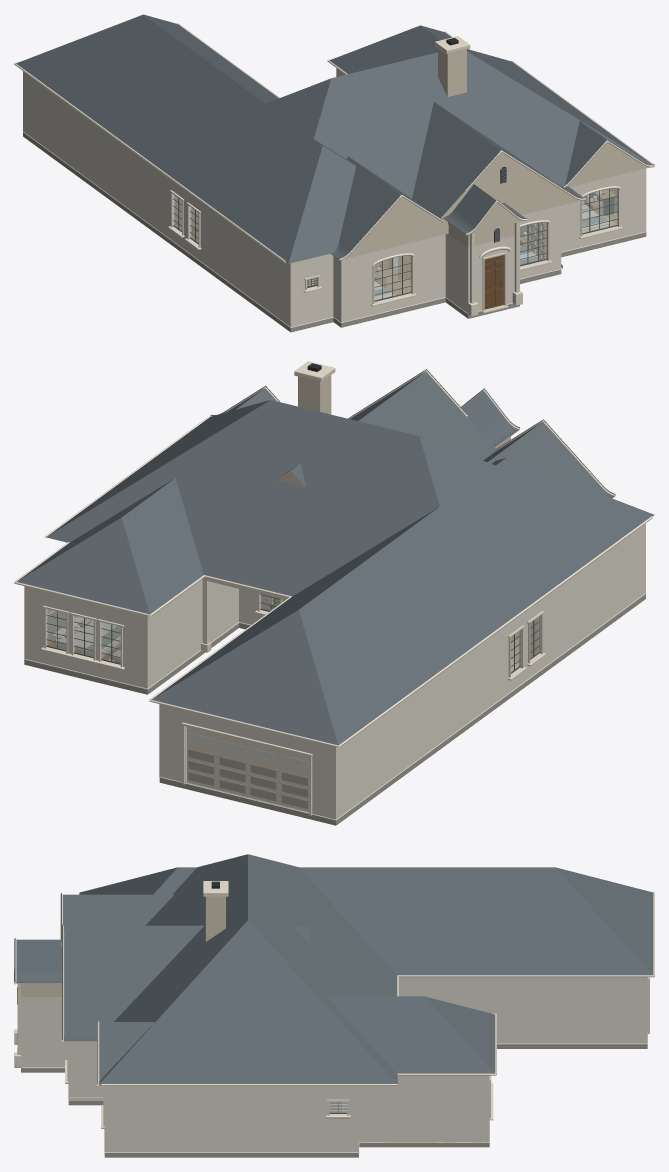
Rendered from house.glb.
The picture shows the model from 3 angles, top to bottom: view 1: azimuth 30°, elevation 25°; view 2: azimuth 150°, elevation 25°; view 3: azimuth 270°, elevation 25°; orthographic projection. The views are drawn at different scales.
Parts seen in each view (by area): view 1: Connected roof with resolved hips and valleys, Continuous joined walls / full height, Continuous joined walls / capped cutaway, Foundation / traced plan perimeter, Front left arched pair glass, Front right arched pair glass, Chimney masonry, Front centre arched pair glass, Limestone eave fascia, Raised foyer gable base, Continuous oak floor, Main entry leaf; view 2: Connected roof with resolved hips and valleys, Continuous joined walls / full height, Continuous joined walls / capped cutaway, Garage door, Foundation / traced plan perimeter, Limestone eave fascia, Chimney masonry, Rear primary bedroom 3 glass, Rear primary bedroom 1 glass, Rear primary bedroom 2 glass; view 3: Connected roof with resolved hips and valleys, Continuous joined walls / full height, Continuous joined walls / capped cutaway, Foundation / traced plan perimeter, Chimney masonry, Limestone eave fascia.002, Limestone eave fascia.007, Raised foyer gable base, Foundation sill.009.
Boxes of the visible parts, x1,y1,x2,y2 form: Connected roof with resolved hips and valleys: (16, 14, 652, 263); Continuous joined walls / full height: (23, 68, 646, 328); Continuous joined walls / capped cutaway: (23, 106, 646, 326); Foundation / traced plan perimeter: (23, 132, 646, 332); Front left arched pair glass: (374, 255, 410, 300); Front right arched pair glass: (582, 188, 617, 232); Chimney masonry: (438, 48, 466, 96); Front centre arched pair glass: (520, 222, 546, 264); Limestone eave fascia: (14, 63, 285, 262); Raised foyer gable base: (448, 222, 519, 248); Continuous oak floor: (192, 200, 617, 322); Main entry leaf: (484, 255, 503, 309); Connected roof with resolved hips and valleys: (16, 371, 654, 746); Continuous joined walls / full height: (24, 523, 645, 820); Continuous joined walls / capped cutaway: (25, 563, 645, 818); Garage door: (187, 727, 309, 811); Foundation / traced plan perimeter: (24, 594, 645, 825); Limestone eave fascia: (338, 516, 652, 747); Chimney masonry: (298, 375, 331, 414); Rear primary bedroom 3 glass: (47, 609, 66, 649); Rear primary bedroom 1 glass: (101, 622, 120, 662); Rear primary bedroom 2 glass: (74, 616, 93, 656); Connected roof with resolved hips and valleys: (15, 854, 652, 1085); Continuous joined walls / full height: (21, 977, 647, 1152); Continuous joined walls / capped cutaway: (22, 1017, 647, 1152); Foundation / traced plan perimeter: (21, 1044, 647, 1157); Chimney masonry: (205, 896, 225, 941); Limestone eave fascia.002: (398, 975, 653, 977); Limestone eave fascia.007: (101, 1084, 397, 1085); Raised foyer gable base: (21, 983, 61, 996); Foundation sill.009: (104, 1152, 358, 1153).
Bounding box in the file's own units: 17.05 × 8.31 × 23.9.
